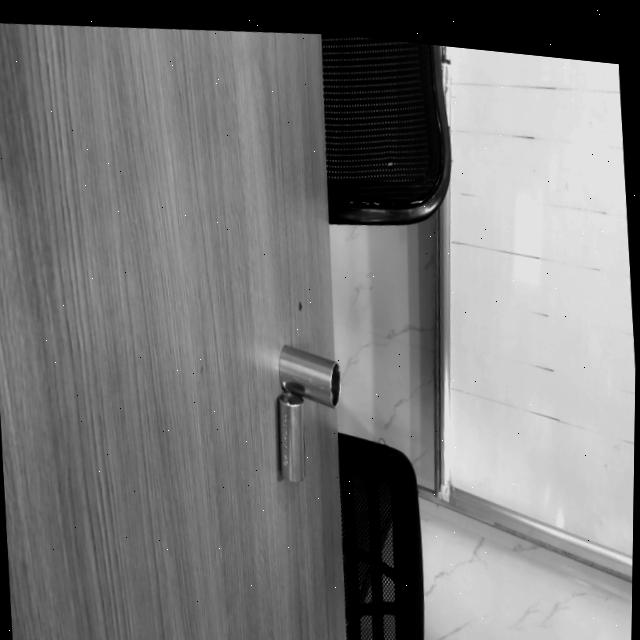Co_Lon: (269, 342, 349, 407)
Co_Nho: (277, 389, 304, 480)
